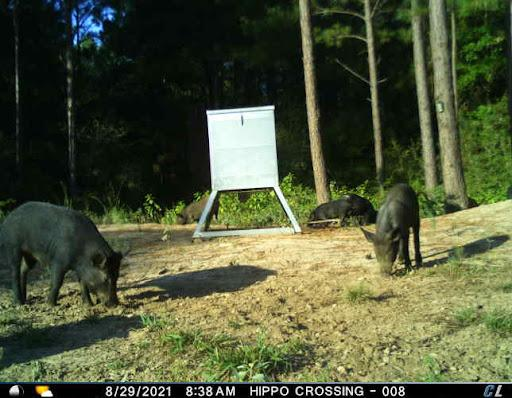Hog: (0, 196, 127, 318), (368, 187, 421, 276), (304, 194, 377, 230)
